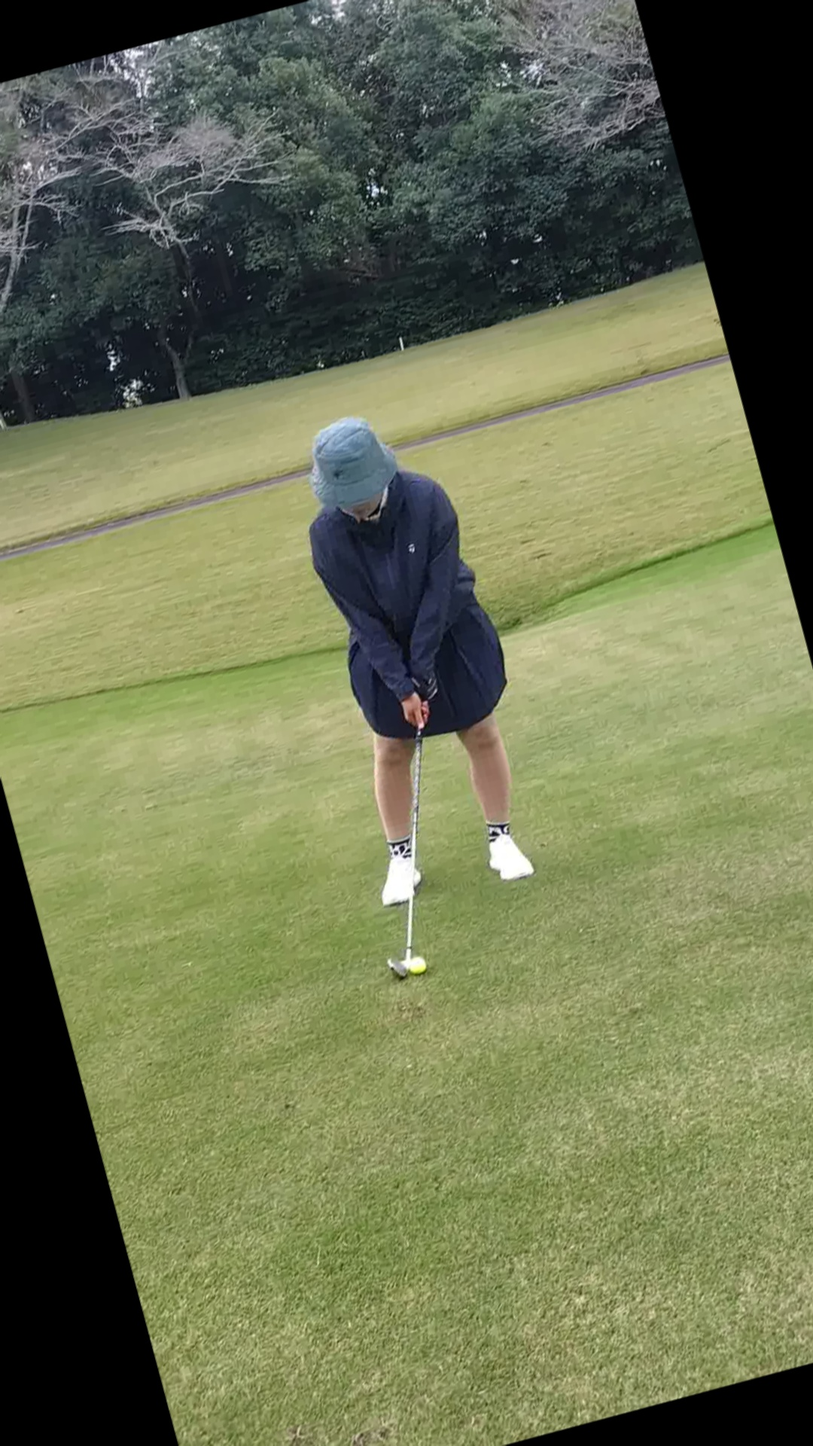clubhead: (280, 919, 471, 1072)
